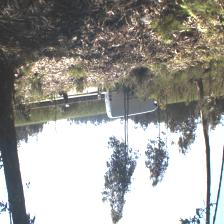trunktrack_idkeyframe: (0, 86, 26, 208), (194, 76, 212, 201)
